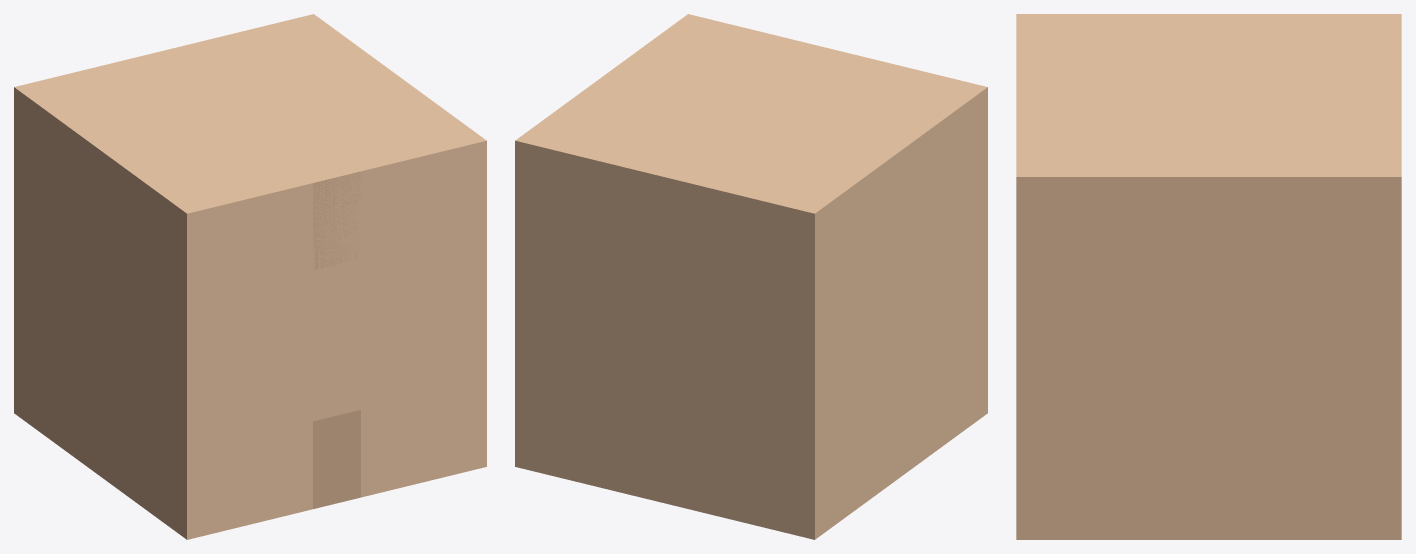
File: cardboardBoxOpen.glb
3 renders of one model, left to right at view 1: azimuth 30°, elevation 25°; view 2: azimuth 150°, elevation 25°; view 3: azimuth 270°, elevation 25°, orthographic. The views are drawn at different scales.
Visible parts, largest first — view 1: cardboardBoxOpen(Clone); view 2: cardboardBoxOpen(Clone); view 3: cardboardBoxOpen(Clone).
Boxes of the visible parts, <box> form: cardboardBoxOpen(Clone): <box>14,14,486,539</box>; cardboardBoxOpen(Clone): <box>515,14,987,539</box>; cardboardBoxOpen(Clone): <box>1016,14,1401,539</box>.
Bounding box in the file's own units: 0.2125 × 0.221 × 0.2125.
